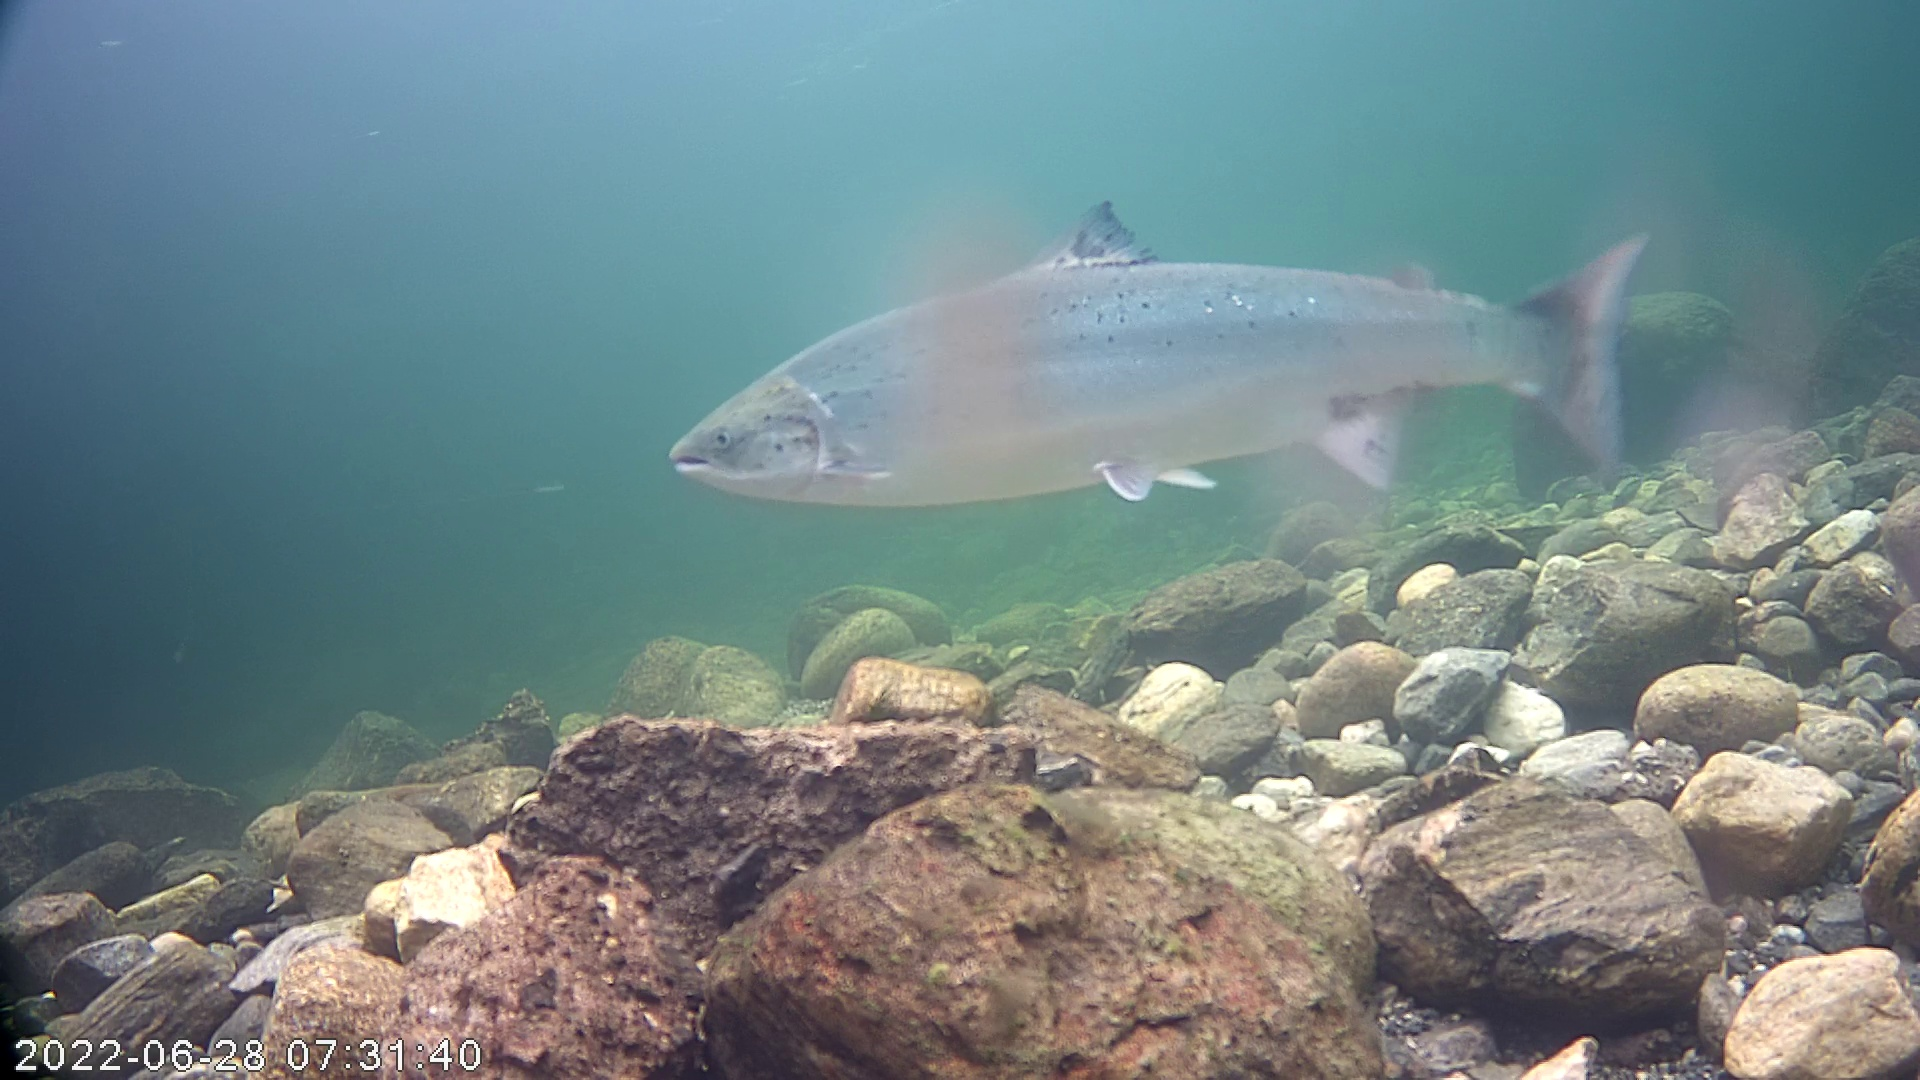salmon: (657, 119, 1672, 563)
